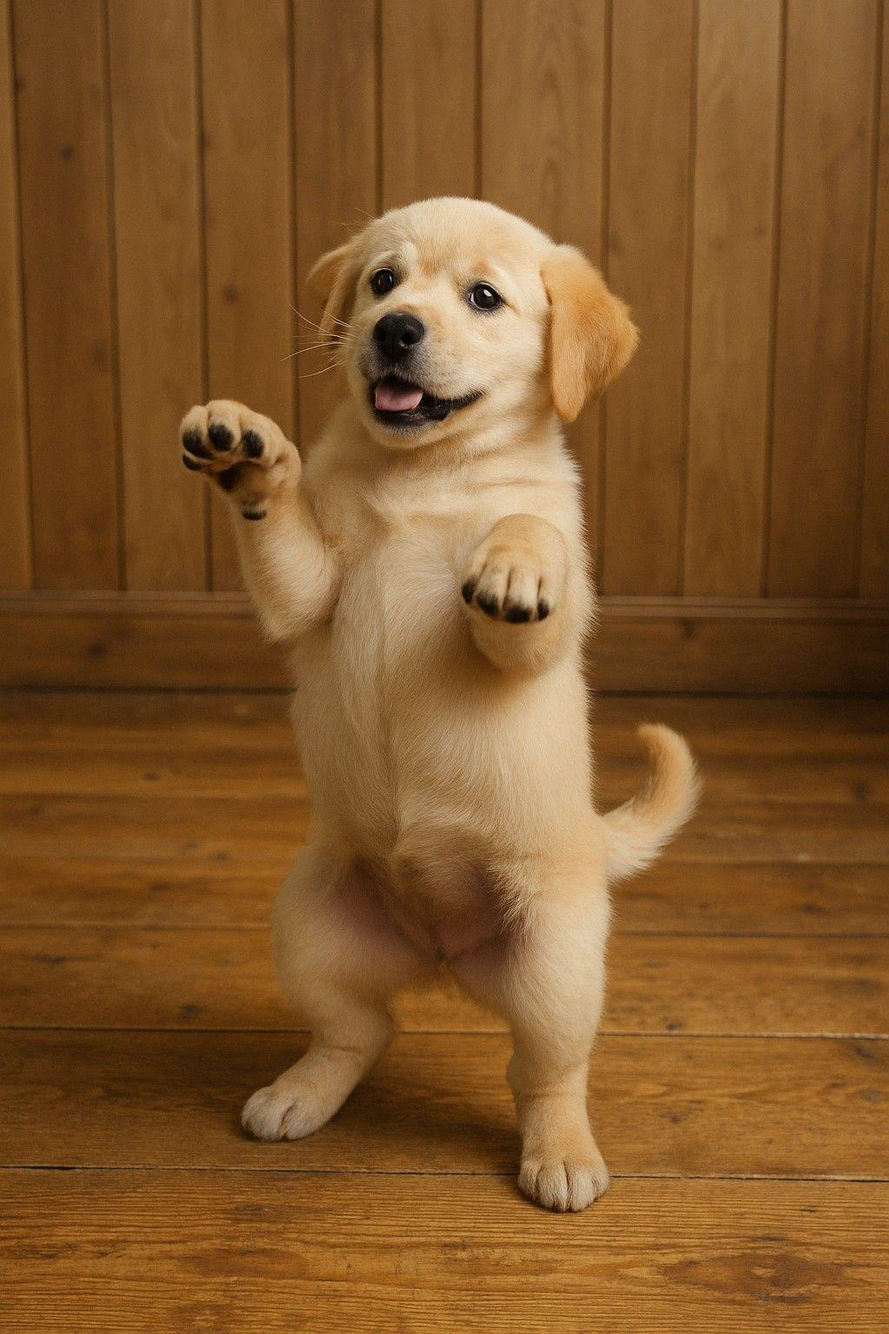puppy-dog: (180, 195, 707, 1212)
